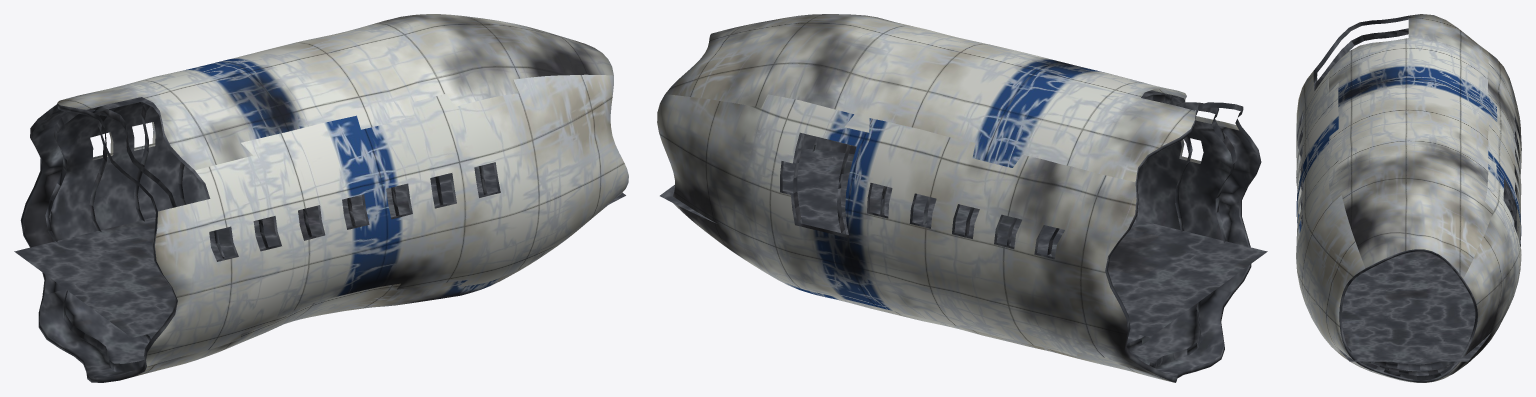
File: plane_fuselage.glb
3 views of the same model, side by side, from view 1: azimuth 30°, elevation 25°; view 2: azimuth 150°, elevation 25°; view 3: azimuth 270°, elevation 25° (orthographic). The views are drawn at different scales.
Visible parts, largest first — view 1: plane_fuselage; view 2: plane_fuselage; view 3: plane_fuselage.
Part boxes in pixels (x1,y1,x2,y2): plane_fuselage: (14,14,628,382); plane_fuselage: (657,14,1267,382); plane_fuselage: (1296,14,1521,382).
Size of what is drawn, in the model's own units: 7.4 by 3.6 by 3.46.
Materials: 2 (2 with a texture image).
